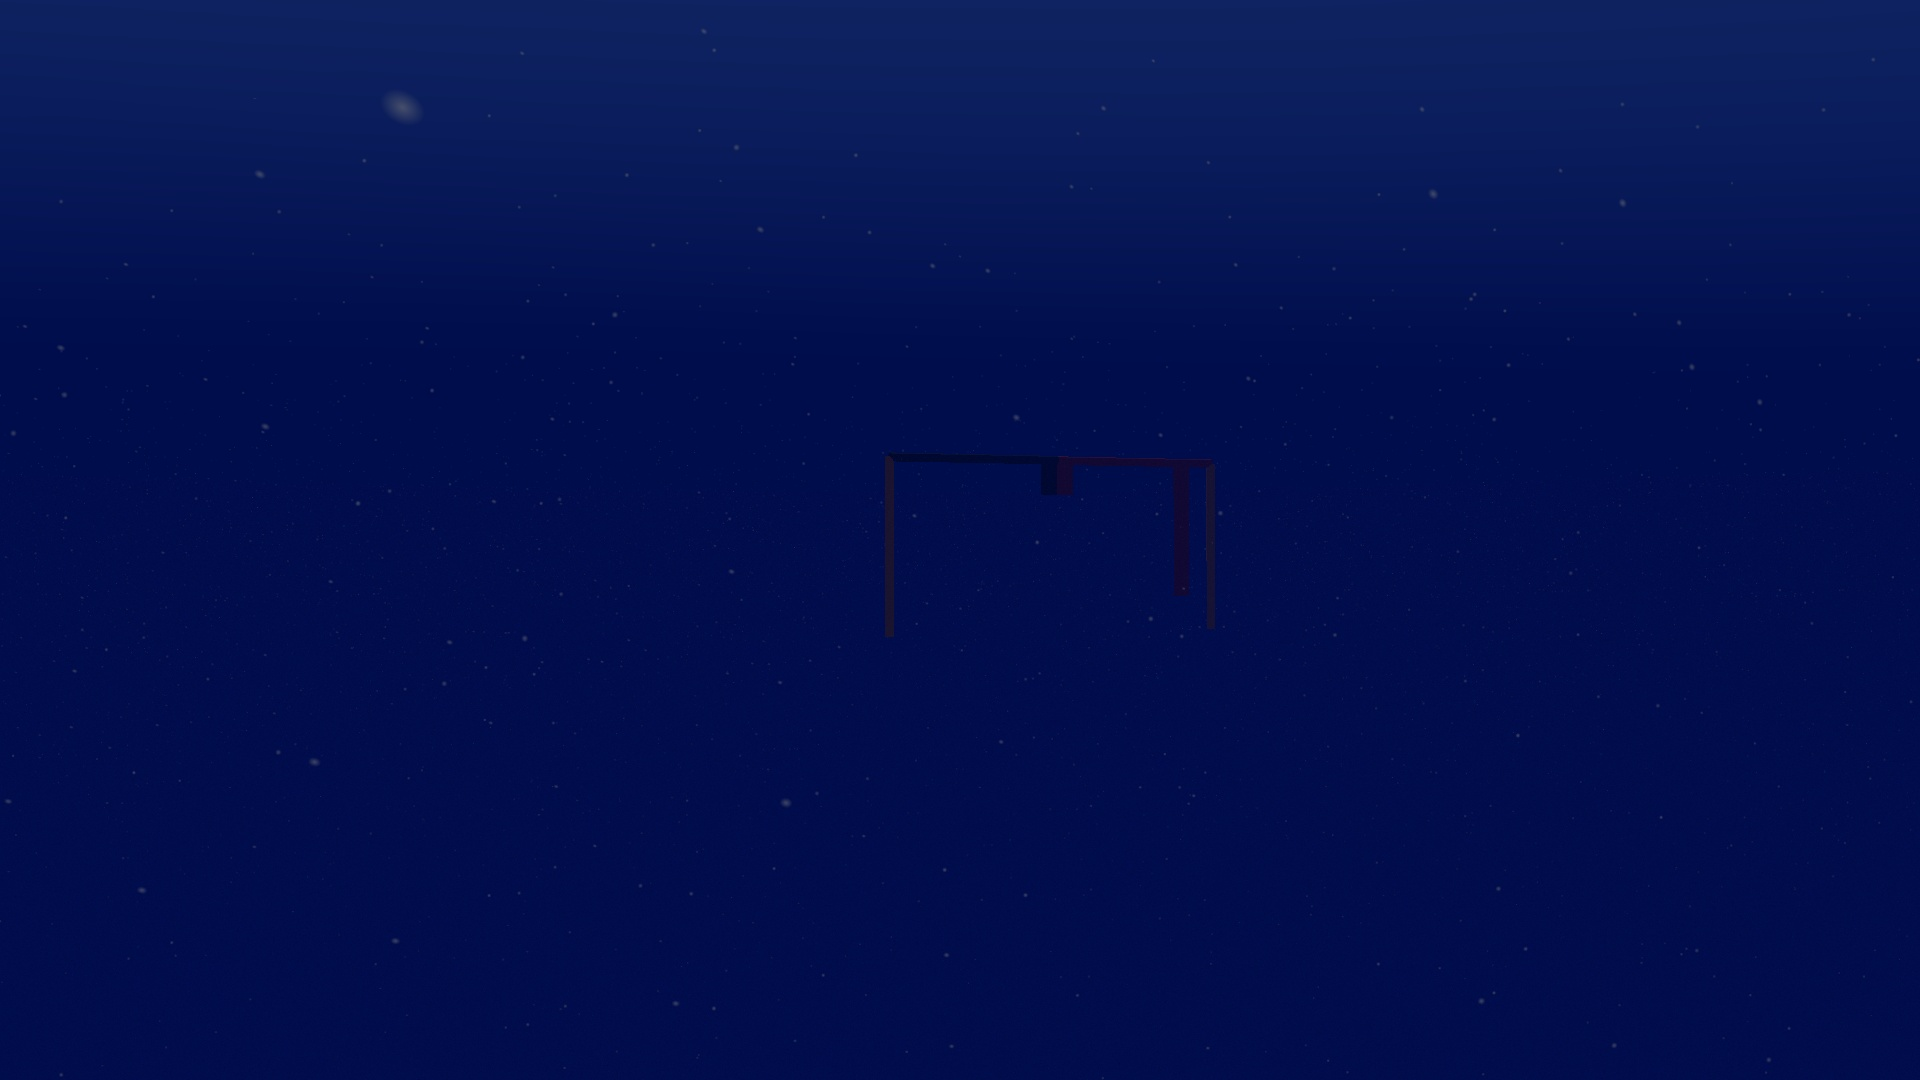Gate: (876, 447, 1222, 644)
